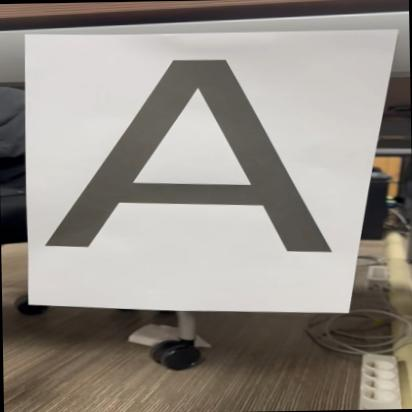seat: (40, 51, 342, 261)
